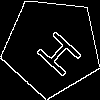H: (26, 21, 84, 79)
